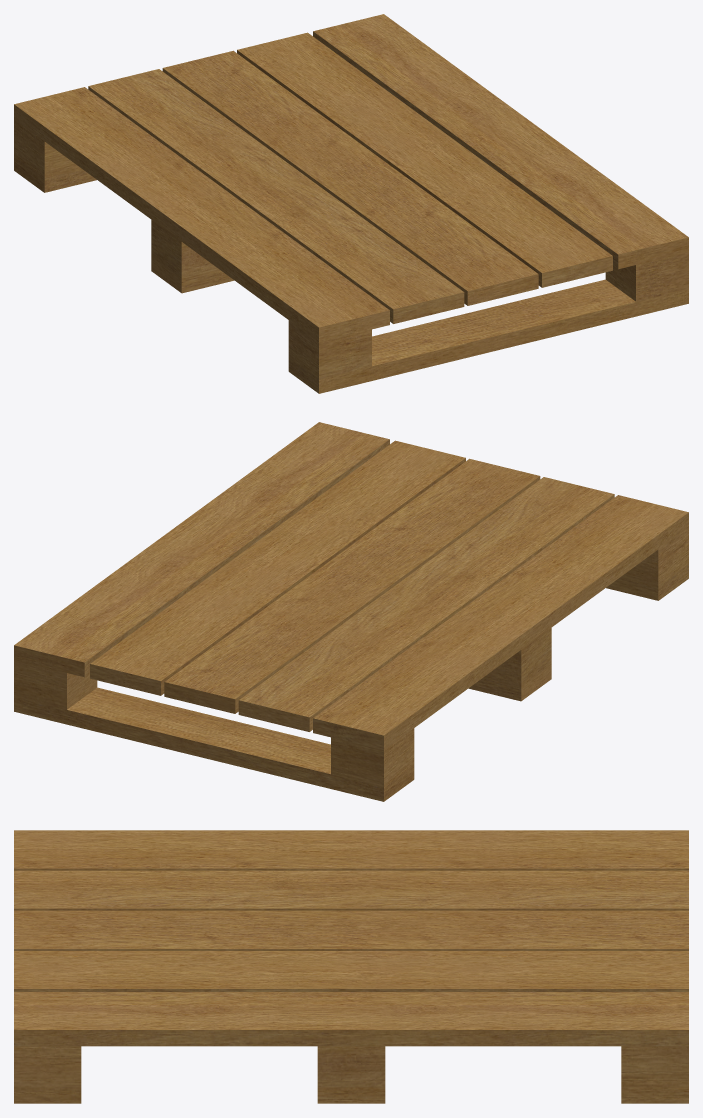
Rendered from board.obj.
3 views of the same model, one above another, from view 1: azimuth 30°, elevation 25°; view 2: azimuth 150°, elevation 25°; view 3: azimuth 270°, elevation 25° (orthographic). The views are drawn at different scales.
Parts seen in each view (by area): view 1: board; view 2: board; view 3: board.
Part boxes in pixels (<box>): board: <box>14,14,688,393</box>; board: <box>14,422,688,801</box>; board: <box>14,830,688,1103</box>.
Bounding box in the file's own units: 0.525 × 0.09 × 0.75.
1 material, 1 textured.
